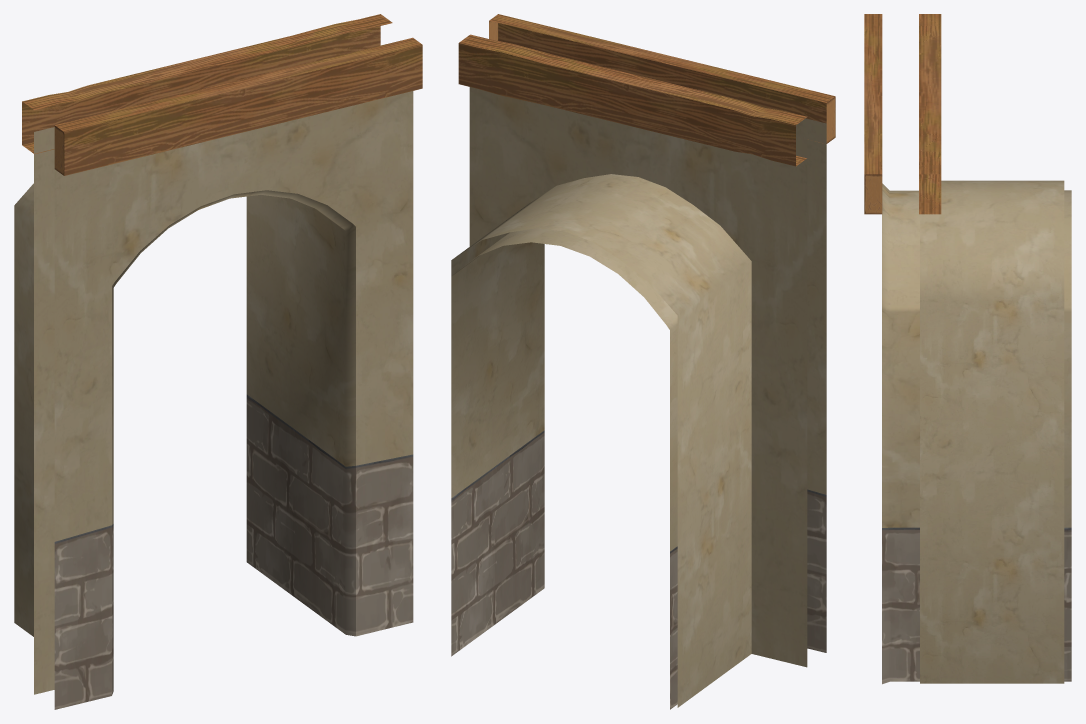
The model's file is Wall_Plaster_Door_RoundInset.gltf.
3 renders of one model, left to right at view 1: azimuth 30°, elevation 25°; view 2: azimuth 150°, elevation 25°; view 3: azimuth 270°, elevation 25°, orthographic. The views are drawn at different scales.
Parts seen in each view (by area): view 1: Wall_Plaster_Door_RoundInset; view 2: Wall_Plaster_Door_RoundInset; view 3: Wall_Plaster_Door_RoundInset.
Part boxes in pixels (x1,y1,x2,y2): Wall_Plaster_Door_RoundInset: (14,14,422,709); Wall_Plaster_Door_RoundInset: (451,14,835,709); Wall_Plaster_Door_RoundInset: (864,14,1071,684).
Size of the model in its own units: 2 by 3.12 by 1.09.
3 materials, 3 textured.
